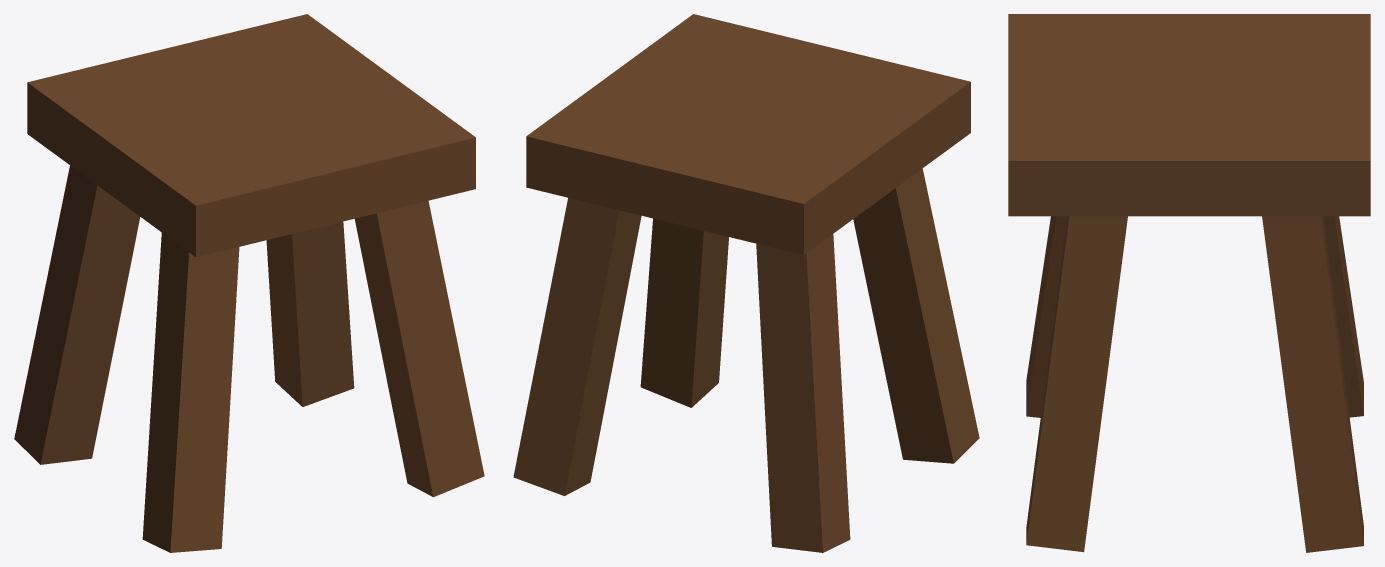
Rendered from Chair_03.fbx.
The picture shows the model from 3 angles, left to right: view 1: azimuth 30°, elevation 25°; view 2: azimuth 150°, elevation 25°; view 3: azimuth 270°, elevation 25°; orthographic projection. The views are drawn at different scales.
Parts seen in each view (by area): view 1: Chair_03; view 2: Chair_03; view 3: Chair_03.
Part boxes in pixels (x1,y1,x2,y2): Chair_03: (14, 14, 484, 552); Chair_03: (513, 14, 979, 552); Chair_03: (1008, 14, 1370, 552).
Size of the model in its own units: 73.52 by 80.83 by 67.92.
